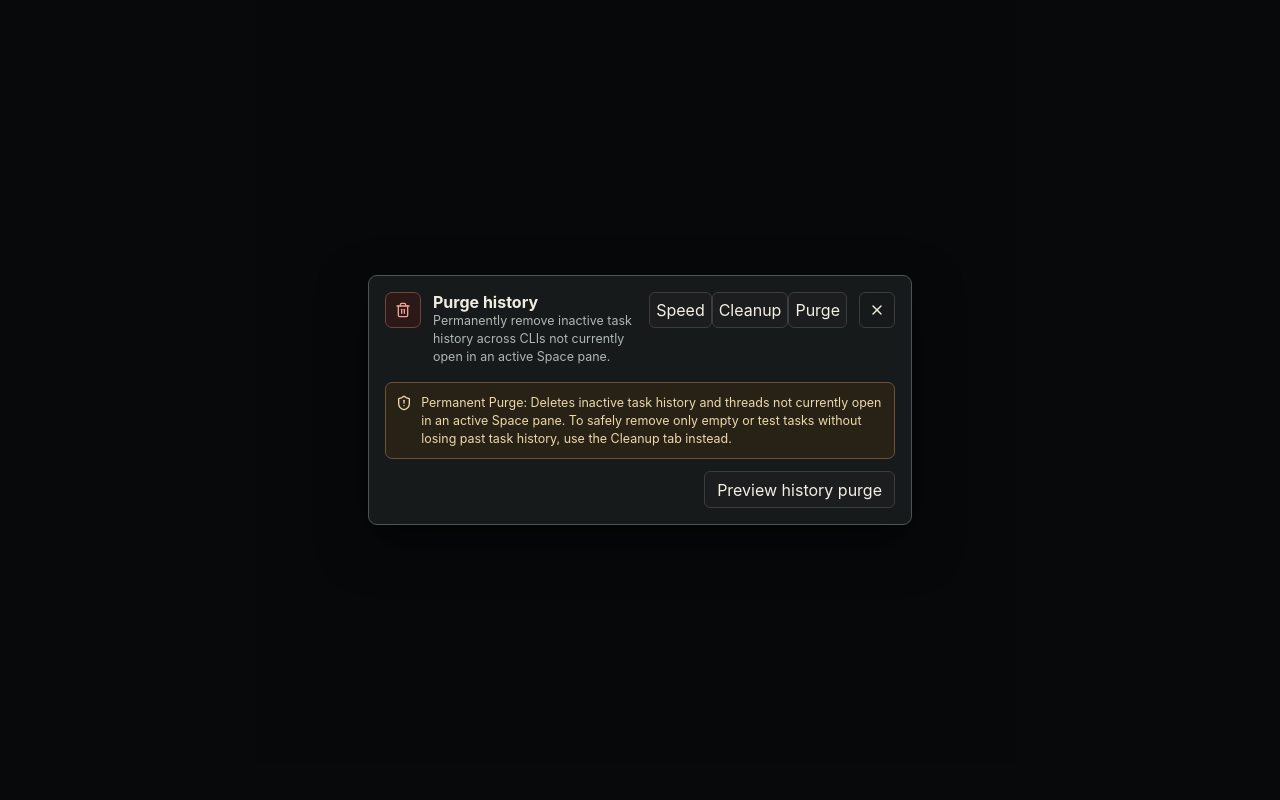
Test: AdminCodexToolsDialog › keeps protected and empty history safe when preview returns NOOP
Step 1. Click the button "Preview history purge" → (800, 490), box [704,472,895,508]
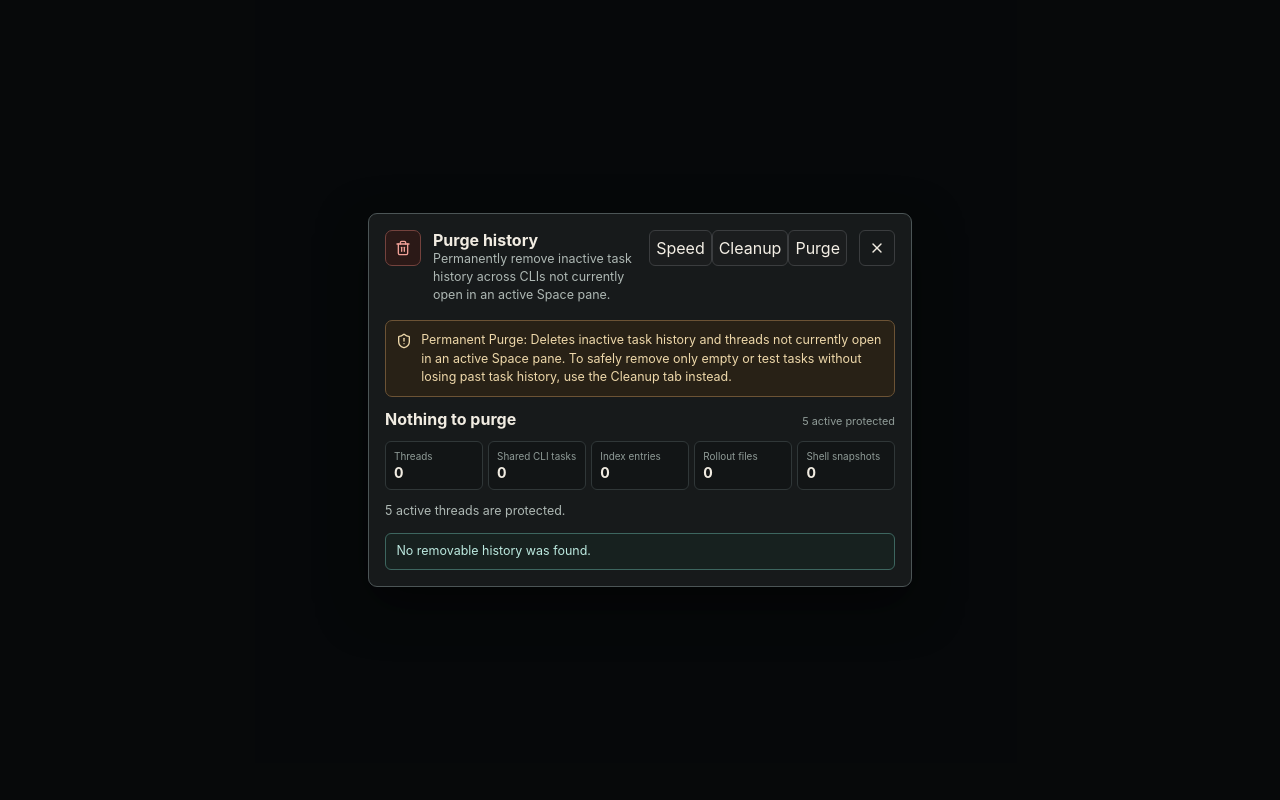
Result: the message shows "No removable history" at [396,543,591,558]
